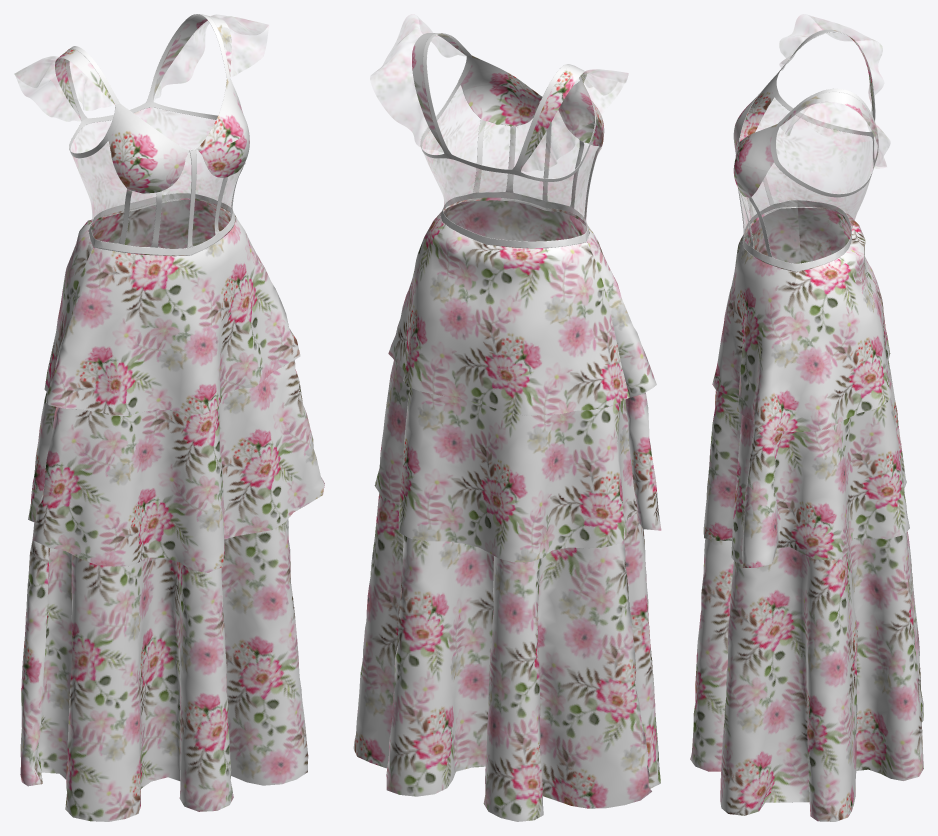
Rendered from white_floral_dress_blooming_elegance.glb.
3 renders of one model, left to right at view 1: azimuth 30°, elevation 25°; view 2: azimuth 150°, elevation 25°; view 3: azimuth 270°, elevation 25°, orthographic. The views are drawn at different scales.
Parts seen in each view (by area): view 1: Pattern2D_5964, Pattern2D_5968, Pattern2D_5969, Pattern_778200, Pattern_31494935, Pattern_2501567, Pattern_31494936, Pattern_2501568, Pattern_21016, Pattern_778198, Pattern_21012, Pattern_3388376 (+7 smaller); view 2: Pattern2D_5964, Pattern2D_5968, Pattern2D_5969, Pattern_2501568, Pattern_778198, Pattern_31494936, Pattern_31494935, Pattern_2501567, Pattern_778200, Pattern_21011, Pattern_3388376, Pattern_26880896 (+6 smaller); view 3: Pattern2D_5964, Pattern2D_5968, Pattern2D_5969, Pattern_2501568, Pattern_2501567, Pattern_778198, Pattern_31494936, Pattern_31494935, Pattern_778200, Pattern_3388376, Pattern_21015, Pattern_26880897 (+4 smaller).
Boxes of the visible parts, x1,y1,x2,y2 form: Pattern2D_5964: [20, 199, 308, 821]; Pattern2D_5968: [28, 219, 324, 572]; Pattern2D_5969: [44, 214, 300, 415]; Pattern_778200: [97, 141, 191, 248]; Pattern_31494935: [14, 56, 114, 121]; Pattern_2501567: [134, 108, 230, 206]; Pattern_31494936: [154, 14, 268, 100]; Pattern_2501568: [71, 120, 135, 238]; Pattern_21016: [108, 104, 188, 159]; Pattern_778198: [192, 150, 245, 245]; Pattern_21012: [110, 151, 185, 193]; Pattern_3388376: [89, 193, 235, 255]; Pattern2D_5964: [353, 200, 660, 821]; Pattern2D_5968: [374, 214, 661, 562]; Pattern2D_5969: [388, 211, 656, 415]; Pattern_2501568: [483, 136, 595, 241]; Pattern_778198: [450, 85, 545, 198]; Pattern_31494936: [370, 14, 465, 152]; Pattern_31494935: [521, 69, 628, 171]; Pattern_2501567: [422, 102, 486, 236]; Pattern_778200: [548, 111, 602, 232]; Pattern_21011: [463, 85, 539, 126]; Pattern_3388376: [440, 191, 588, 247]; Pattern_26880896: [520, 65, 587, 171]; Pattern2D_5964: [690, 207, 923, 821]; Pattern2D_5968: [703, 242, 909, 567]; Pattern2D_5969: [712, 213, 891, 432]; Pattern_2501568: [779, 108, 872, 226]; Pattern_2501567: [780, 162, 872, 263]; Pattern_778198: [738, 163, 793, 262]; Pattern_31494936: [780, 102, 890, 168]; Pattern_31494935: [779, 14, 883, 114]; Pattern_778200: [741, 98, 795, 226]; Pattern_3388376: [743, 200, 851, 271]; Pattern_21015: [736, 124, 777, 170]; Pattern_26880897: [780, 92, 878, 160].
Size of the model in its own units: 0.5135 by 1.29 by 0.3884.
Materials: 4 (4 with a texture image).
